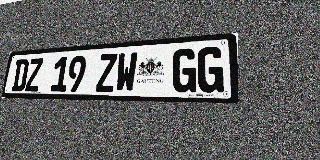1: (50, 56, 70, 92)
9: (66, 55, 87, 92)
D: (11, 59, 29, 91)
G: (197, 46, 224, 93), (171, 48, 197, 93)
W: (115, 52, 138, 92)
Z: (96, 53, 118, 92), (25, 58, 44, 92)
